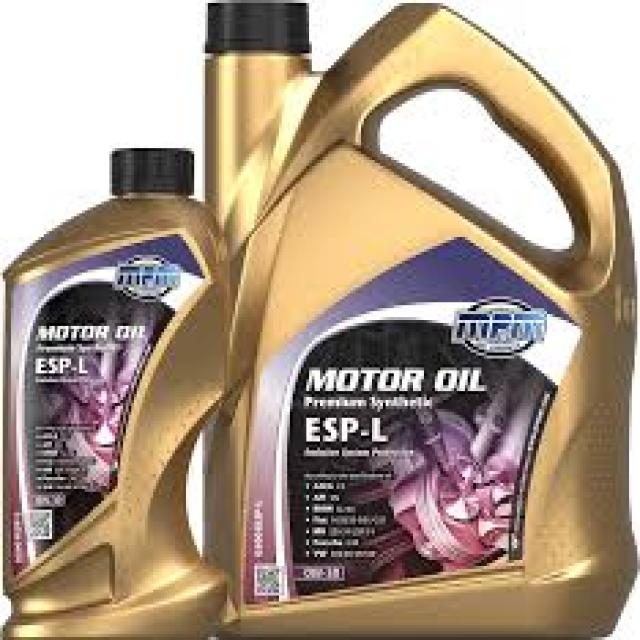motor_oil: (201, 8, 636, 640)
